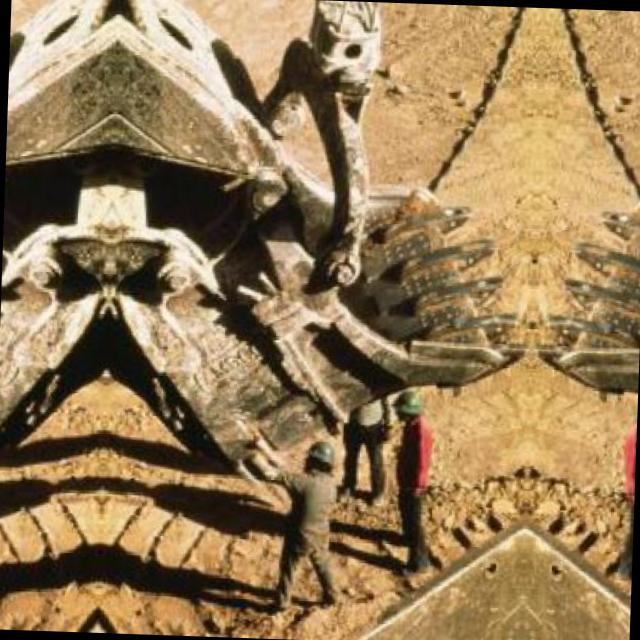helmet: (300, 438, 337, 473), (389, 388, 424, 424)
